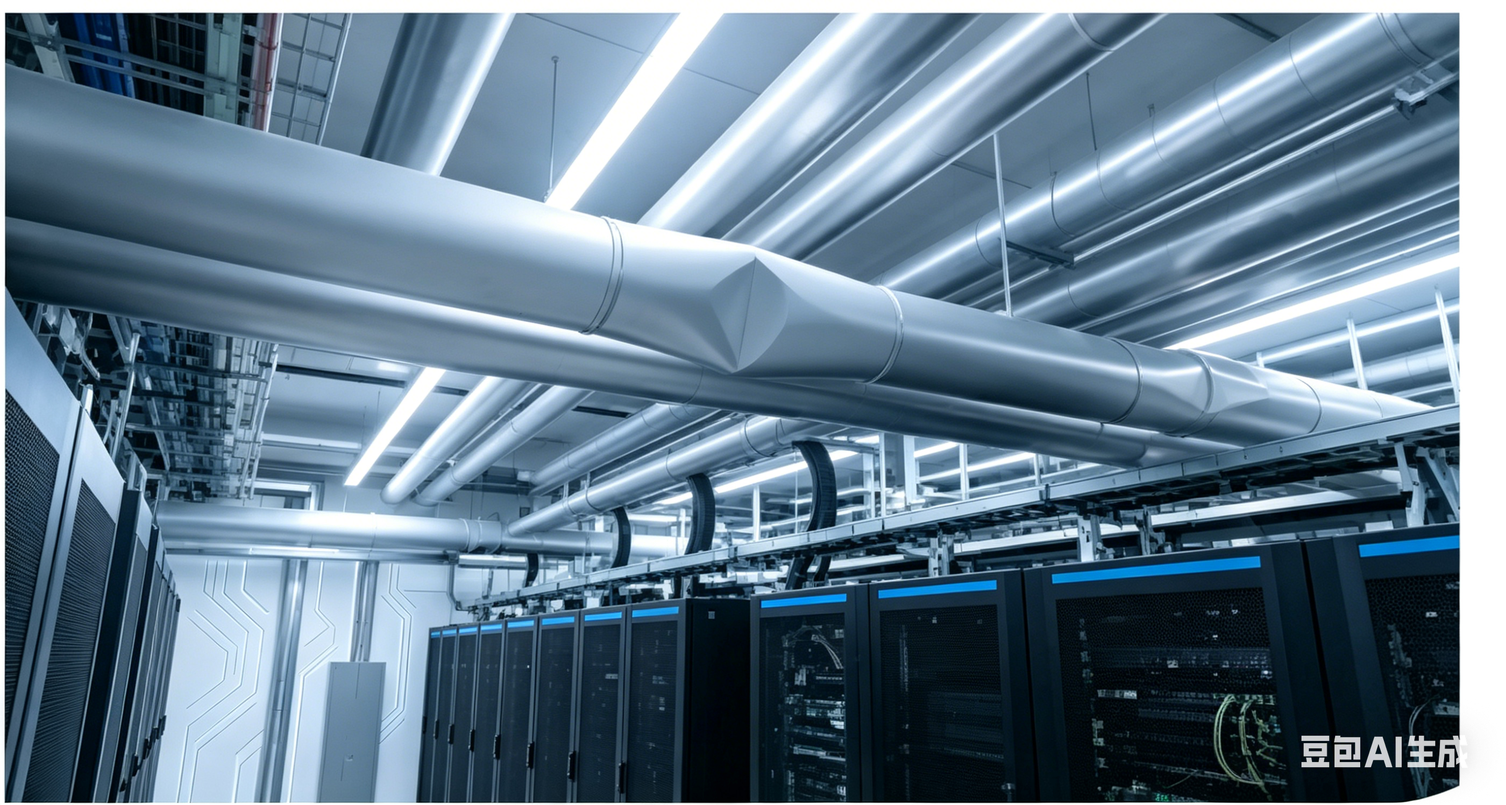Leakage: (677, 243, 823, 374)
